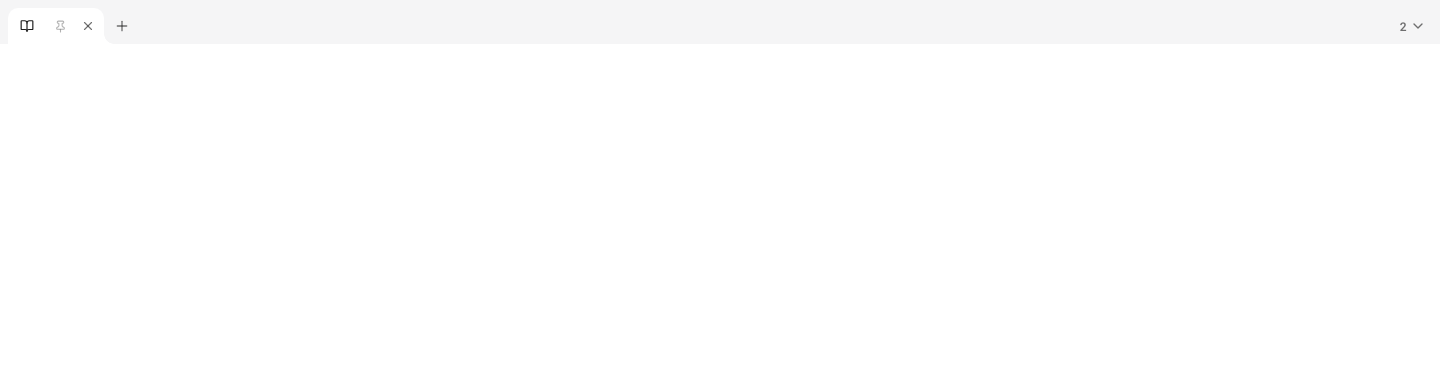
Test: TabStrip · 正在编辑的页签(离开确认,画布 02-A) › 收藏满 12 个:右键「收藏此页」灰掉并写「已满 12 个」
Right-click the tab named "月度台账": (56, 26) [8, 8, 104, 44]
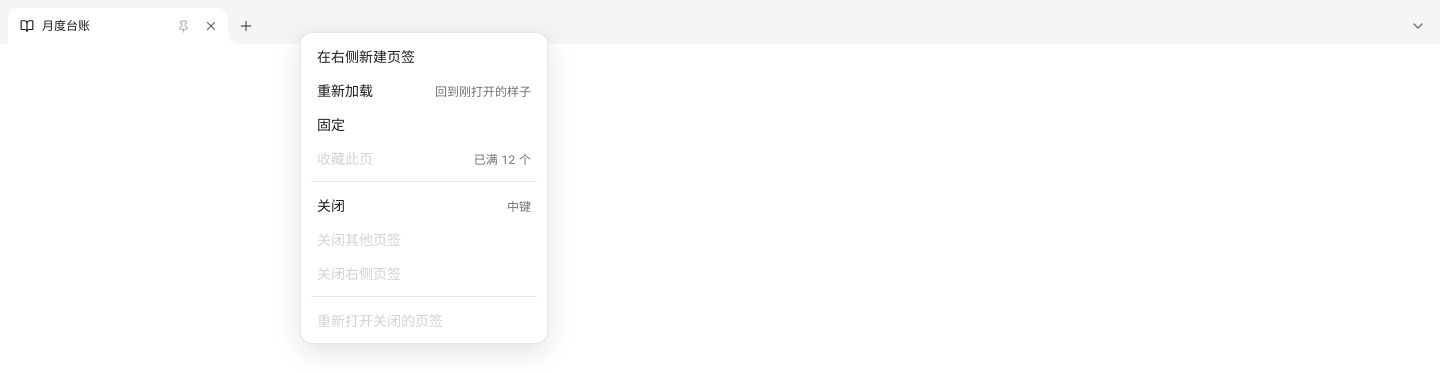
Check: the menu item "收藏此页 已满 12 个" is disabled, box [307, 141, 541, 175]
Check: the menu item "收藏此页 已满 12 个" is shown, box [307, 141, 541, 175]
